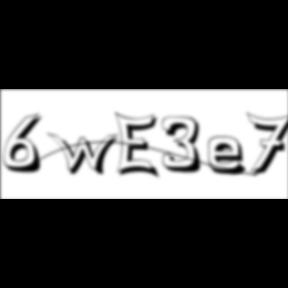3: (163, 116, 209, 176)
6: (3, 112, 48, 176)
E: (115, 110, 164, 182)
e: (208, 135, 254, 178)
w: (47, 132, 125, 178)
